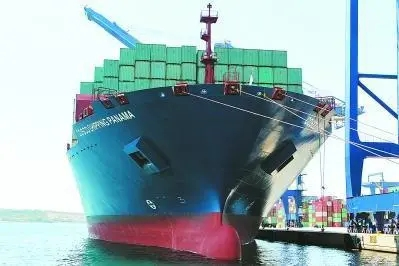Cargoship: (65, 1, 340, 259)
